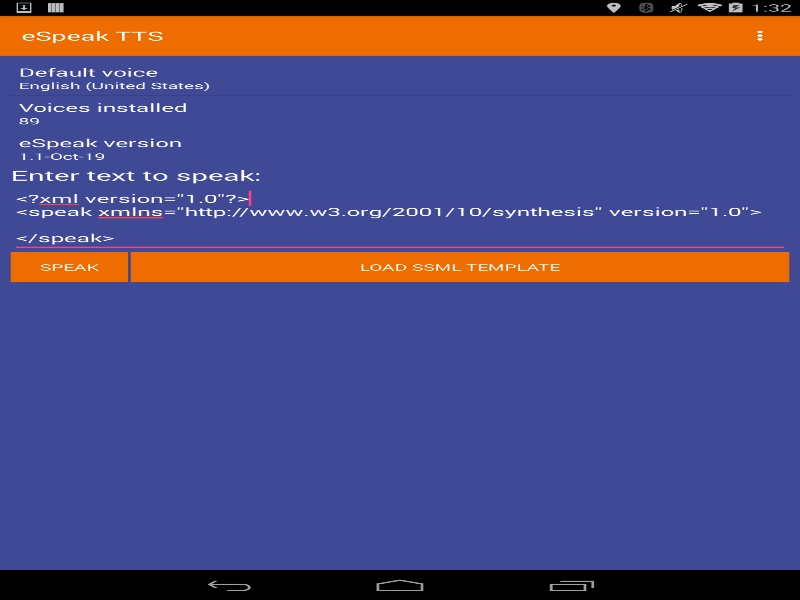Button: (130, 252, 789, 282), (10, 252, 128, 282)
Input: (10, 184, 789, 252)
